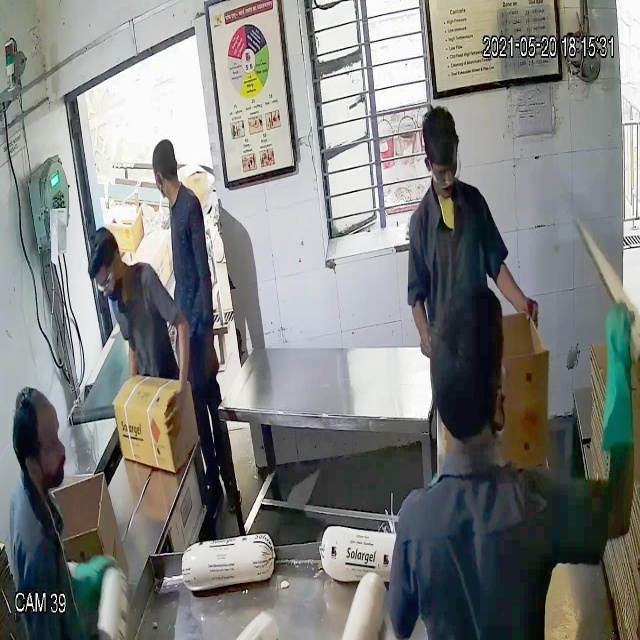Gafas: (426, 148, 462, 191)
